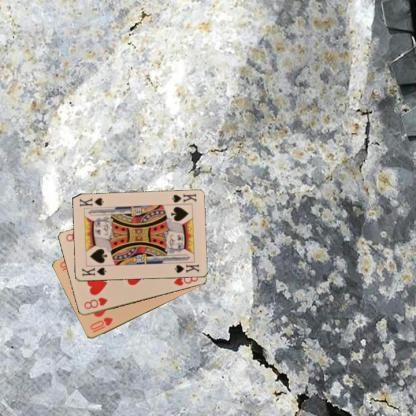10h: (87, 315, 114, 334)
8h: (82, 295, 108, 311)
Ks: (169, 192, 197, 204), (79, 266, 108, 277)
